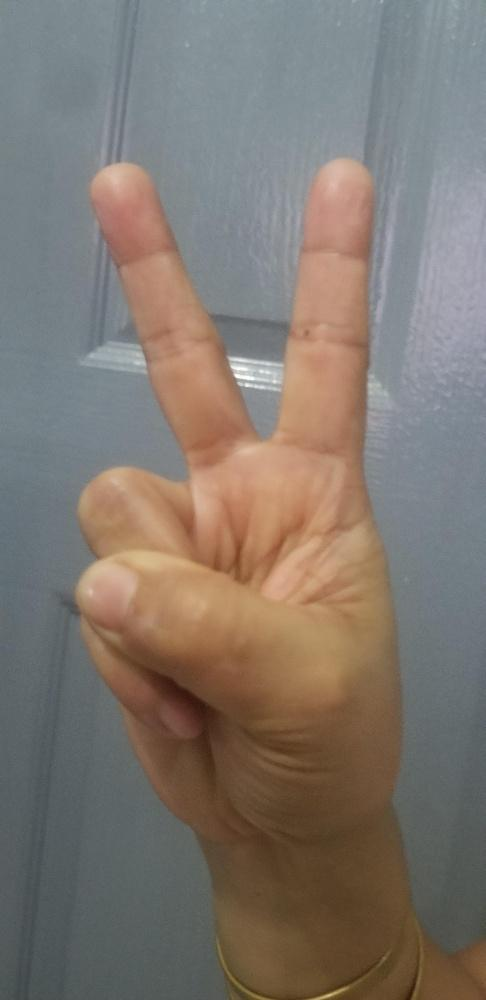v: (71, 154, 403, 819)
